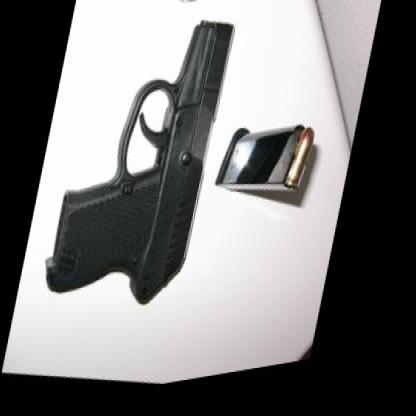pistol: (42, 0, 240, 331)
